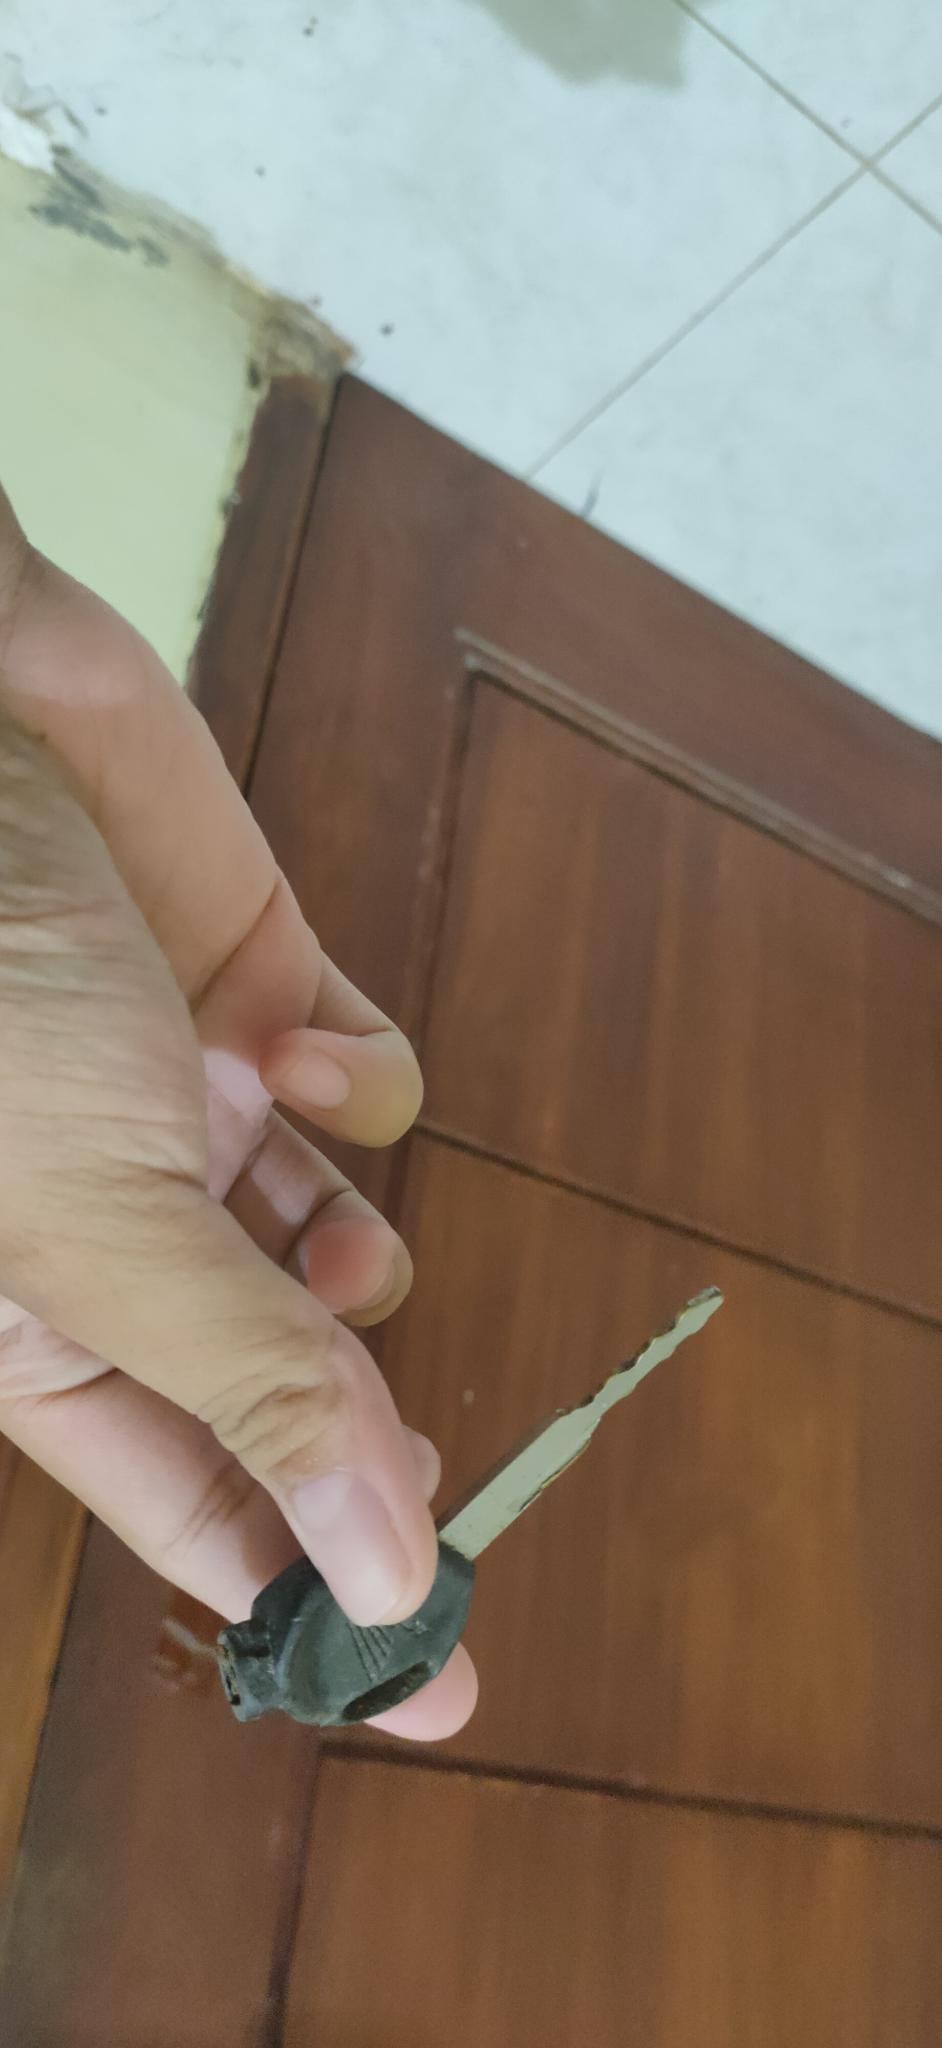keys: (155, 1260, 759, 1782)
